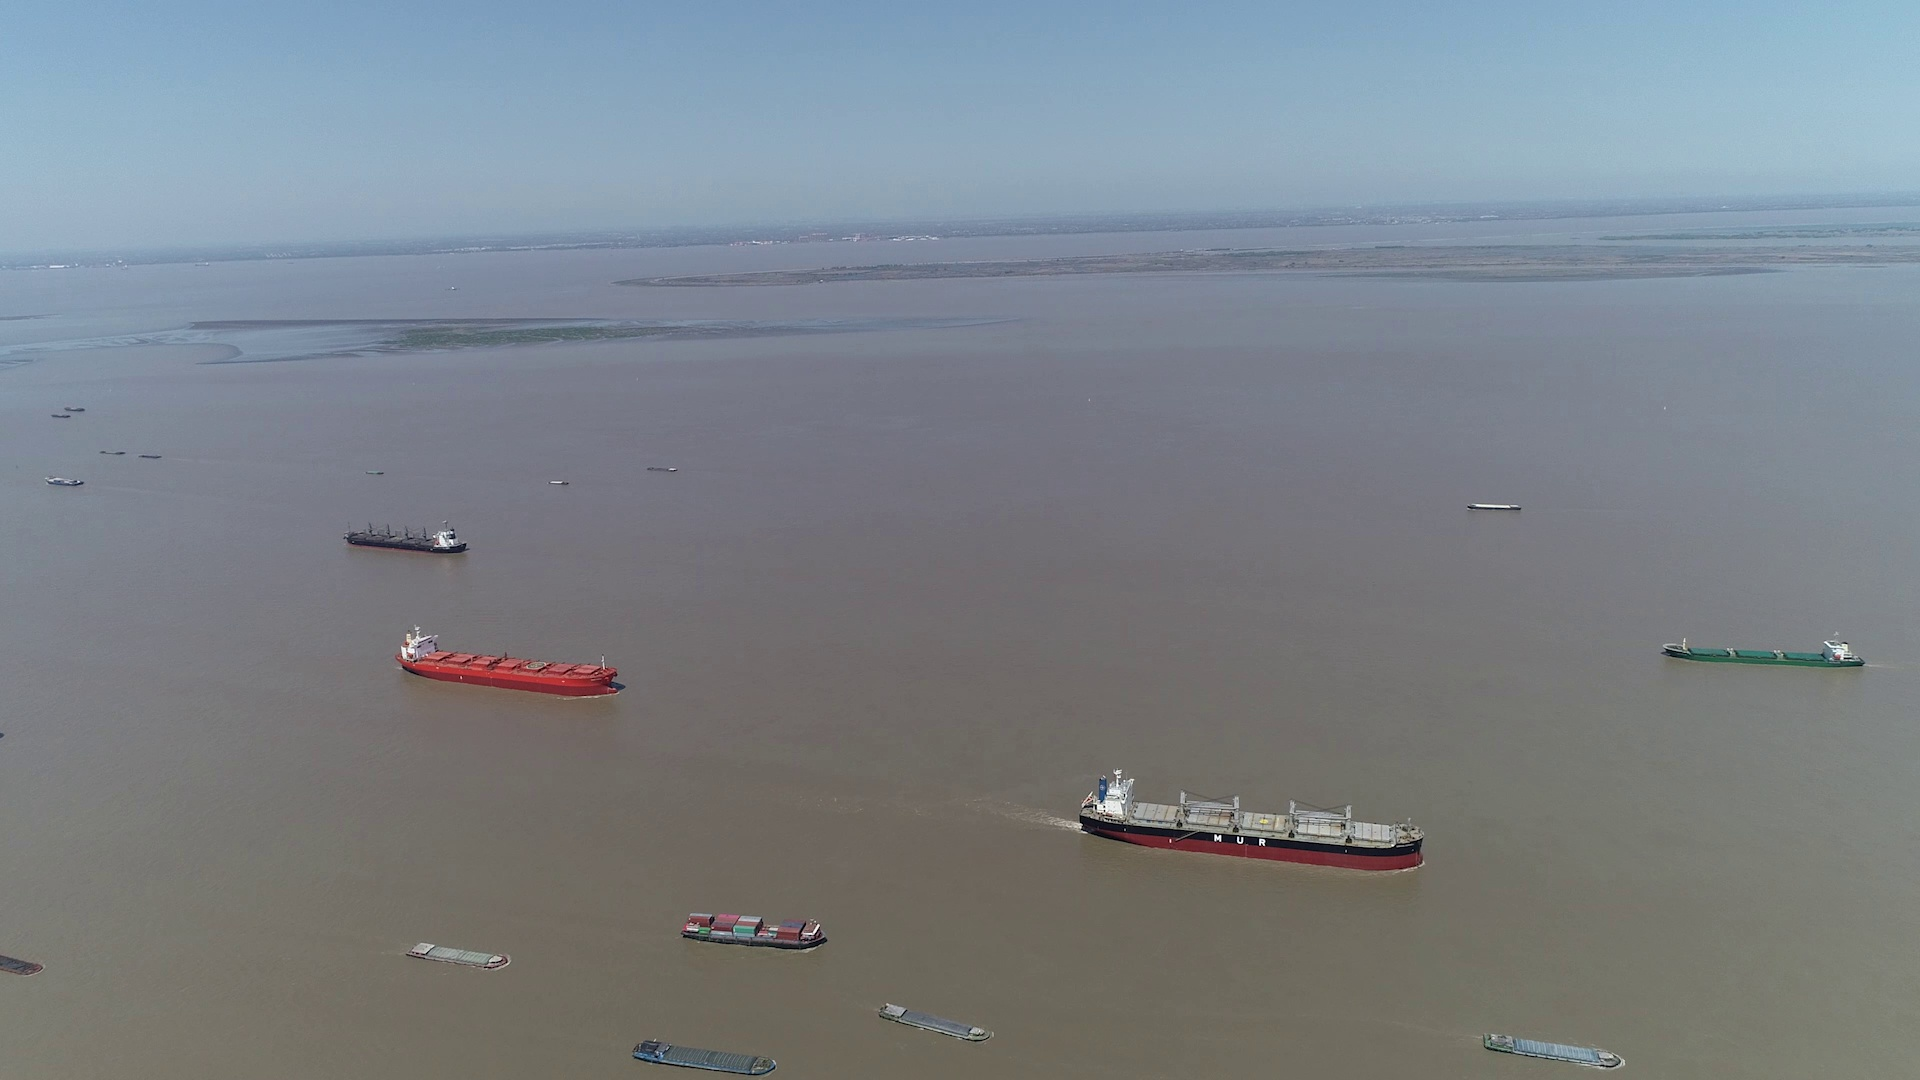ship: (1080, 771, 1425, 869), (396, 628, 616, 698), (1660, 634, 1862, 669), (682, 911, 829, 949), (1482, 1031, 1625, 1071), (633, 1040, 778, 1077), (878, 1001, 989, 1044), (343, 520, 468, 553), (406, 940, 510, 968), (0, 949, 41, 977), (1469, 500, 1523, 512), (46, 473, 84, 487)
